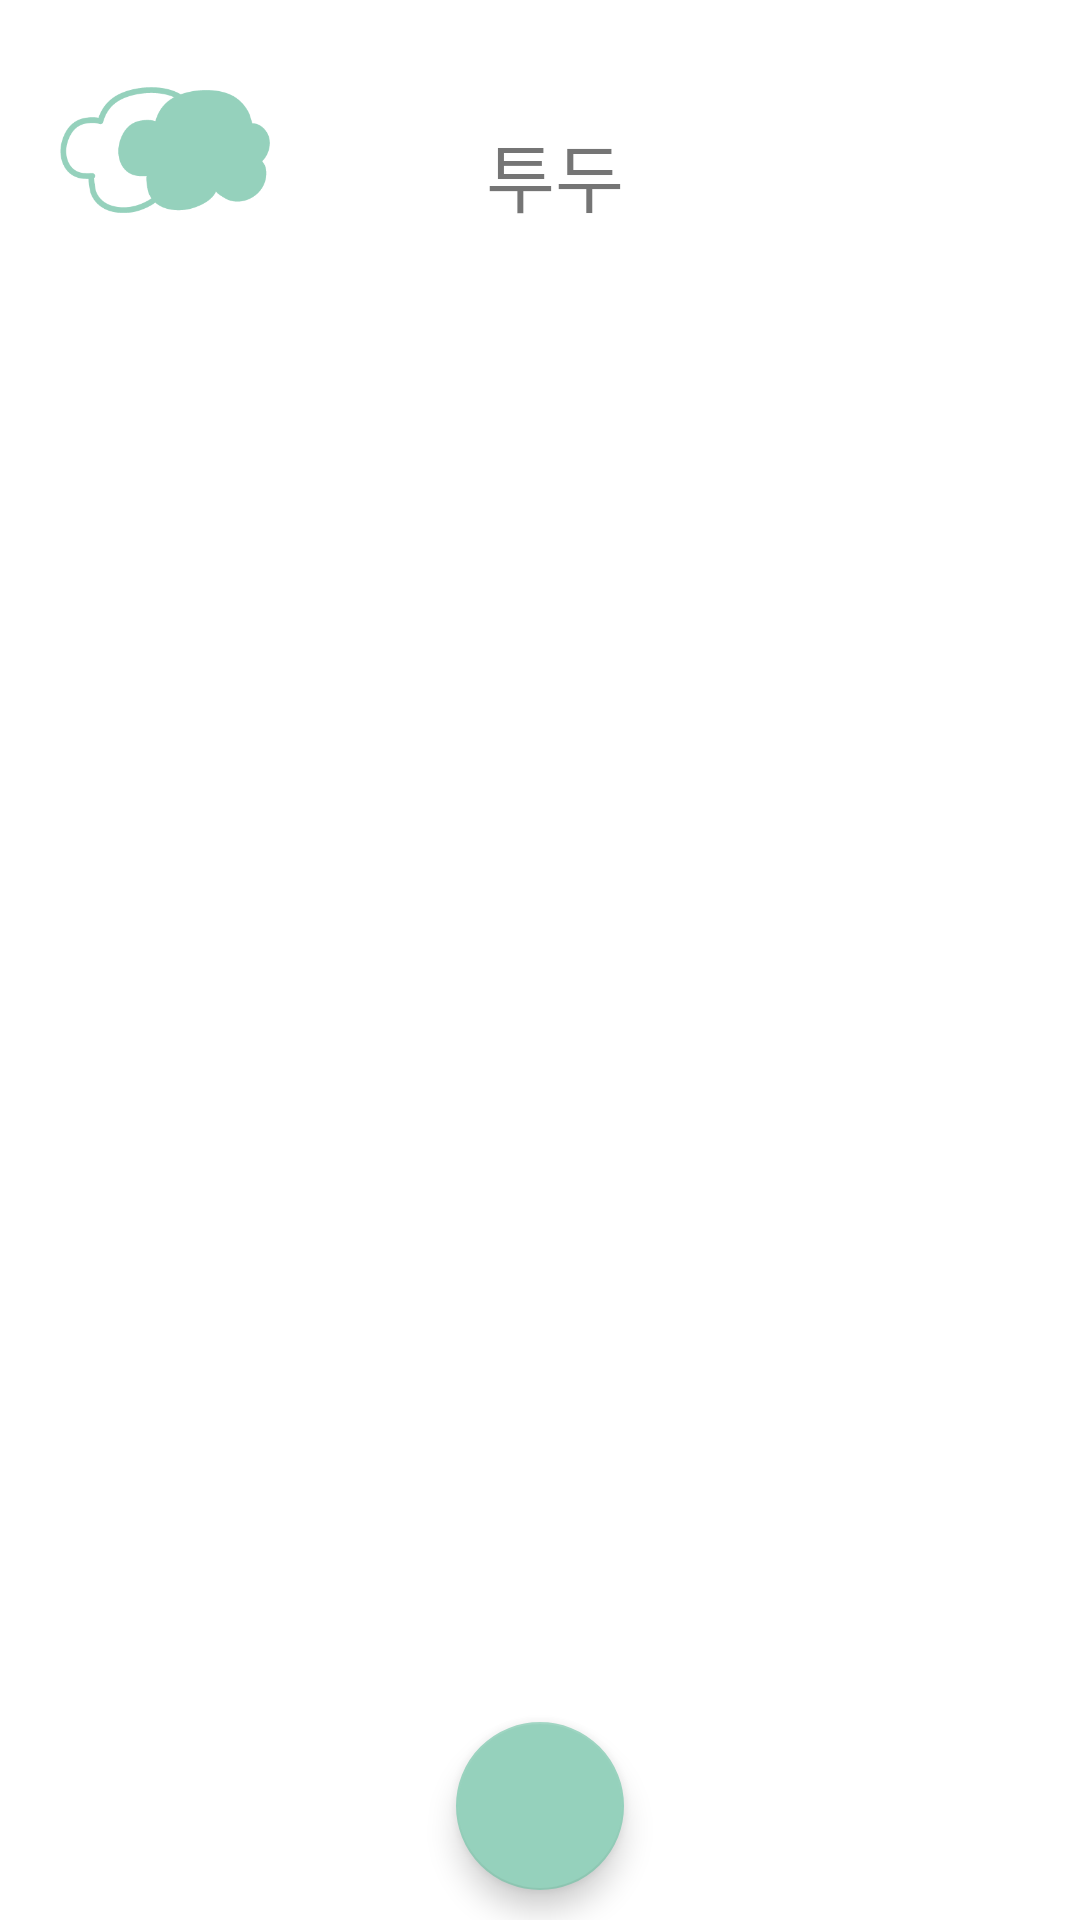

Screen size 1080 x 1920. Icon name, then its center in pixels as (x,y):
cloud: (165,150)
